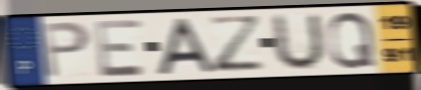A: (154, 16, 219, 77)
E: (93, 18, 148, 80)
P: (40, 20, 93, 80)
Q: (326, 10, 378, 71)
U: (272, 11, 327, 73)
Z: (206, 15, 268, 76)
